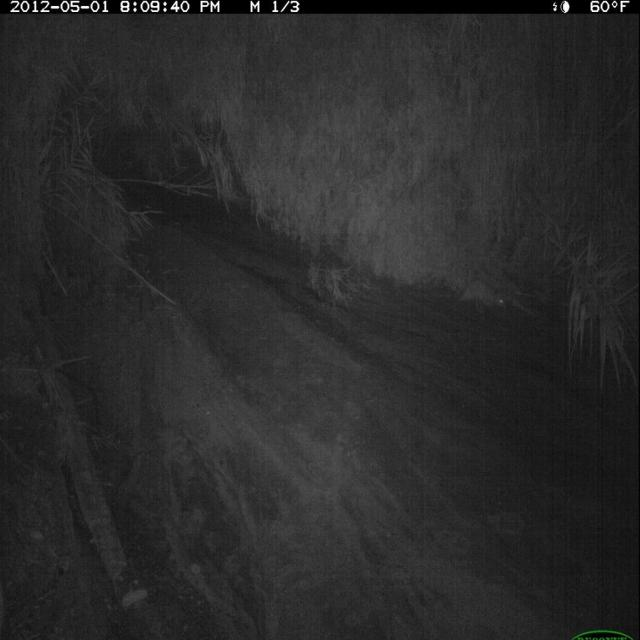opossum: (443, 277, 512, 314)
